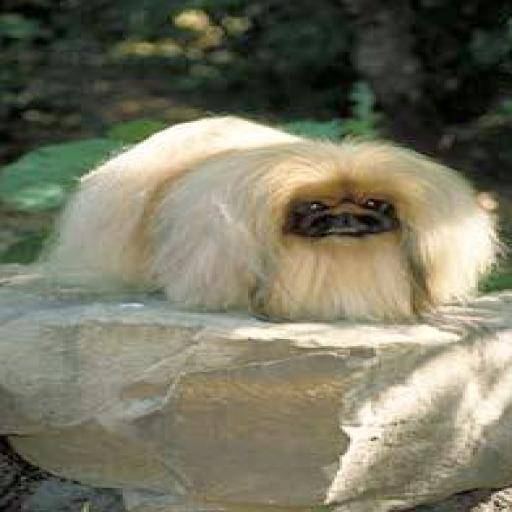dog_face: (188, 142, 489, 299)
